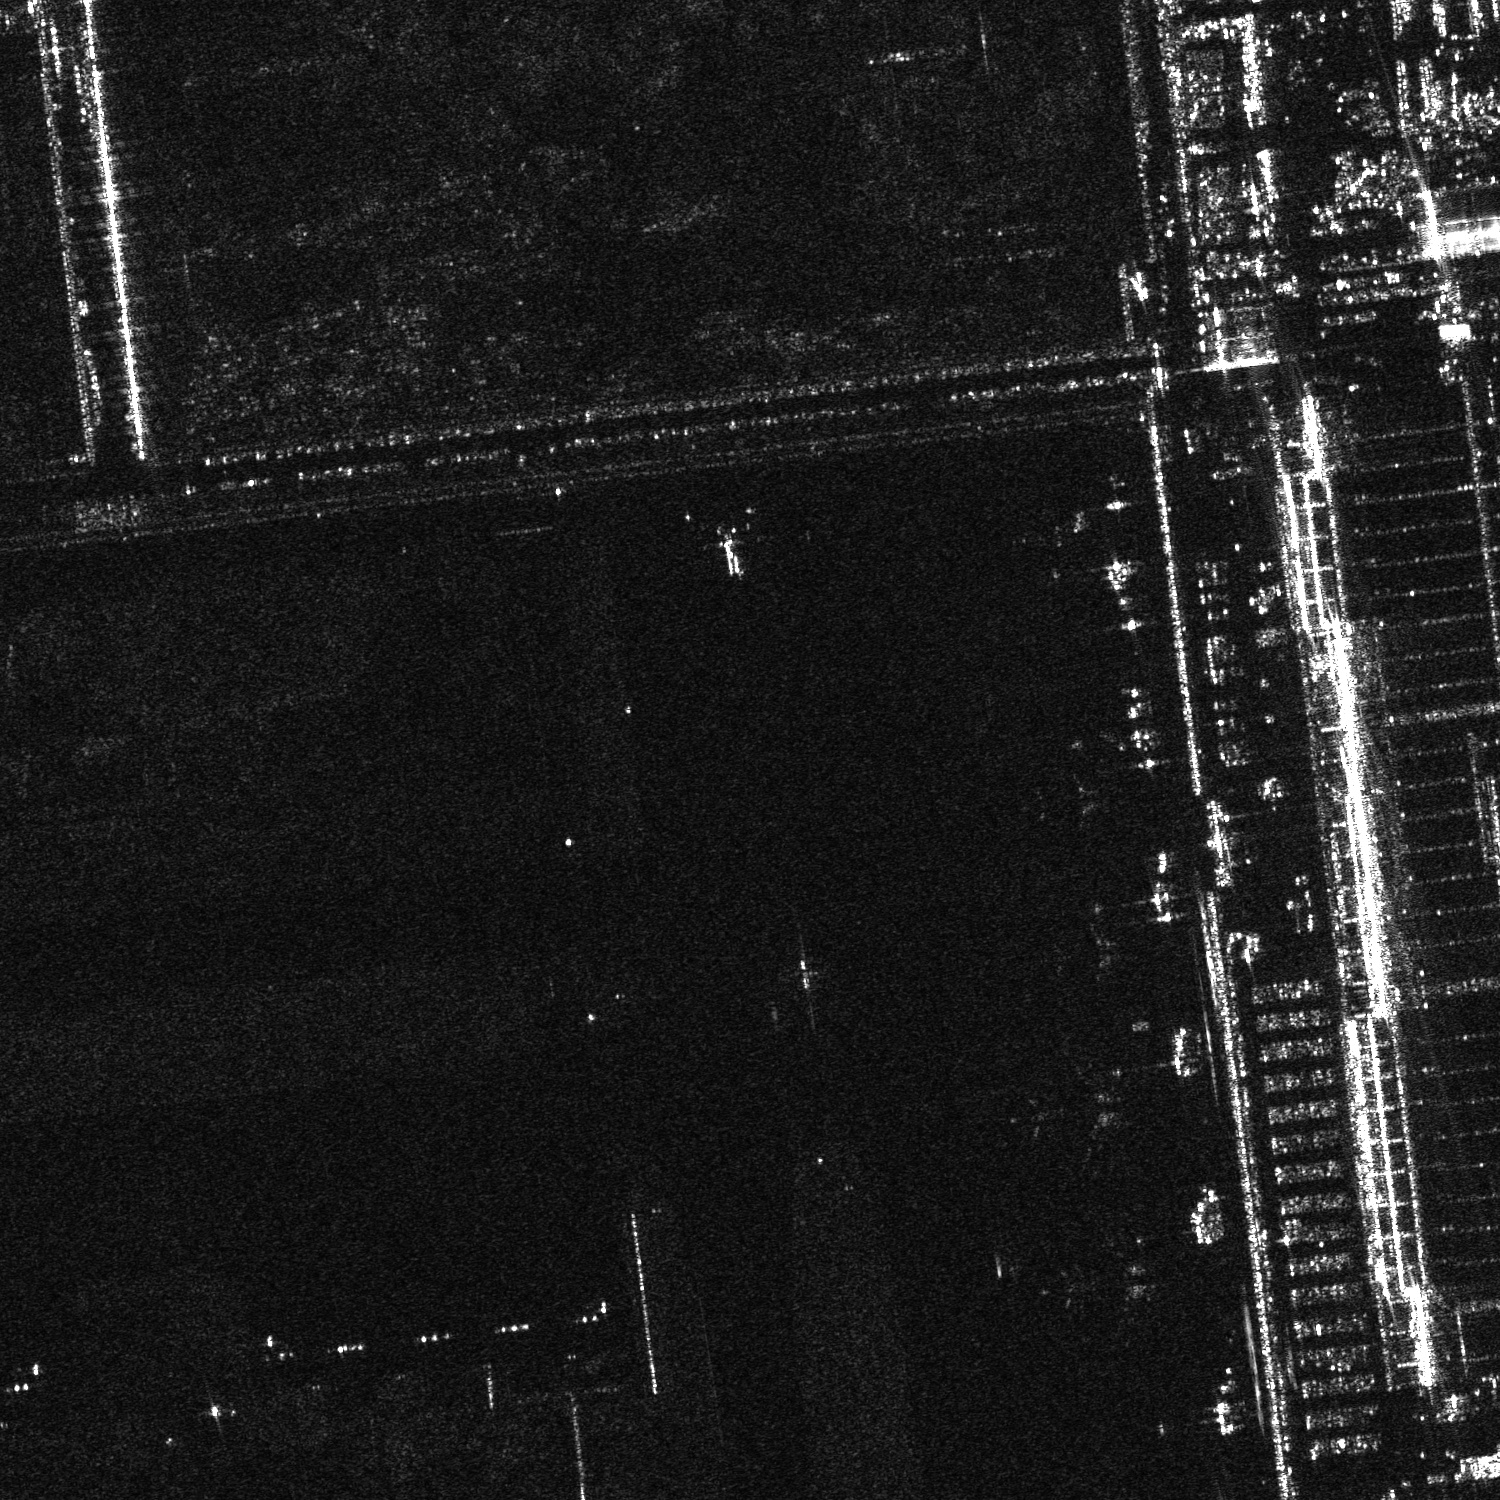Boeing787: (1004, 1052, 1137, 1177), (1048, 1231, 1170, 1339), (1052, 909, 1136, 982)
other: (701, 516, 751, 576)
